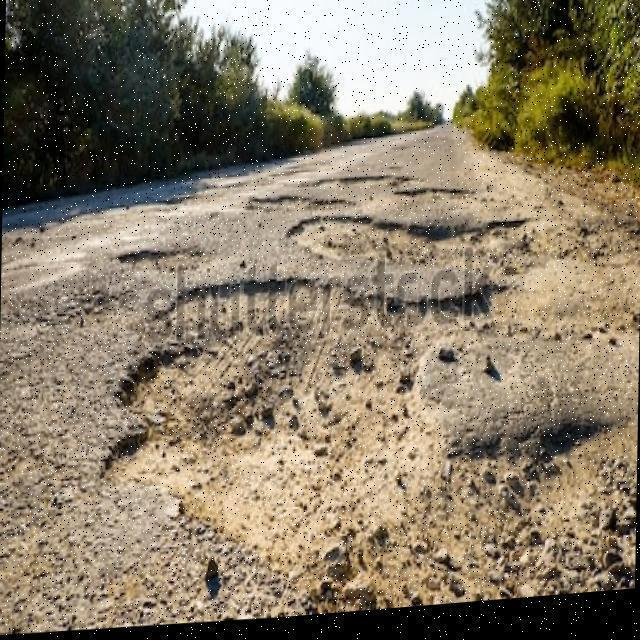Pothole: (88, 213, 639, 615), (116, 245, 211, 277)
